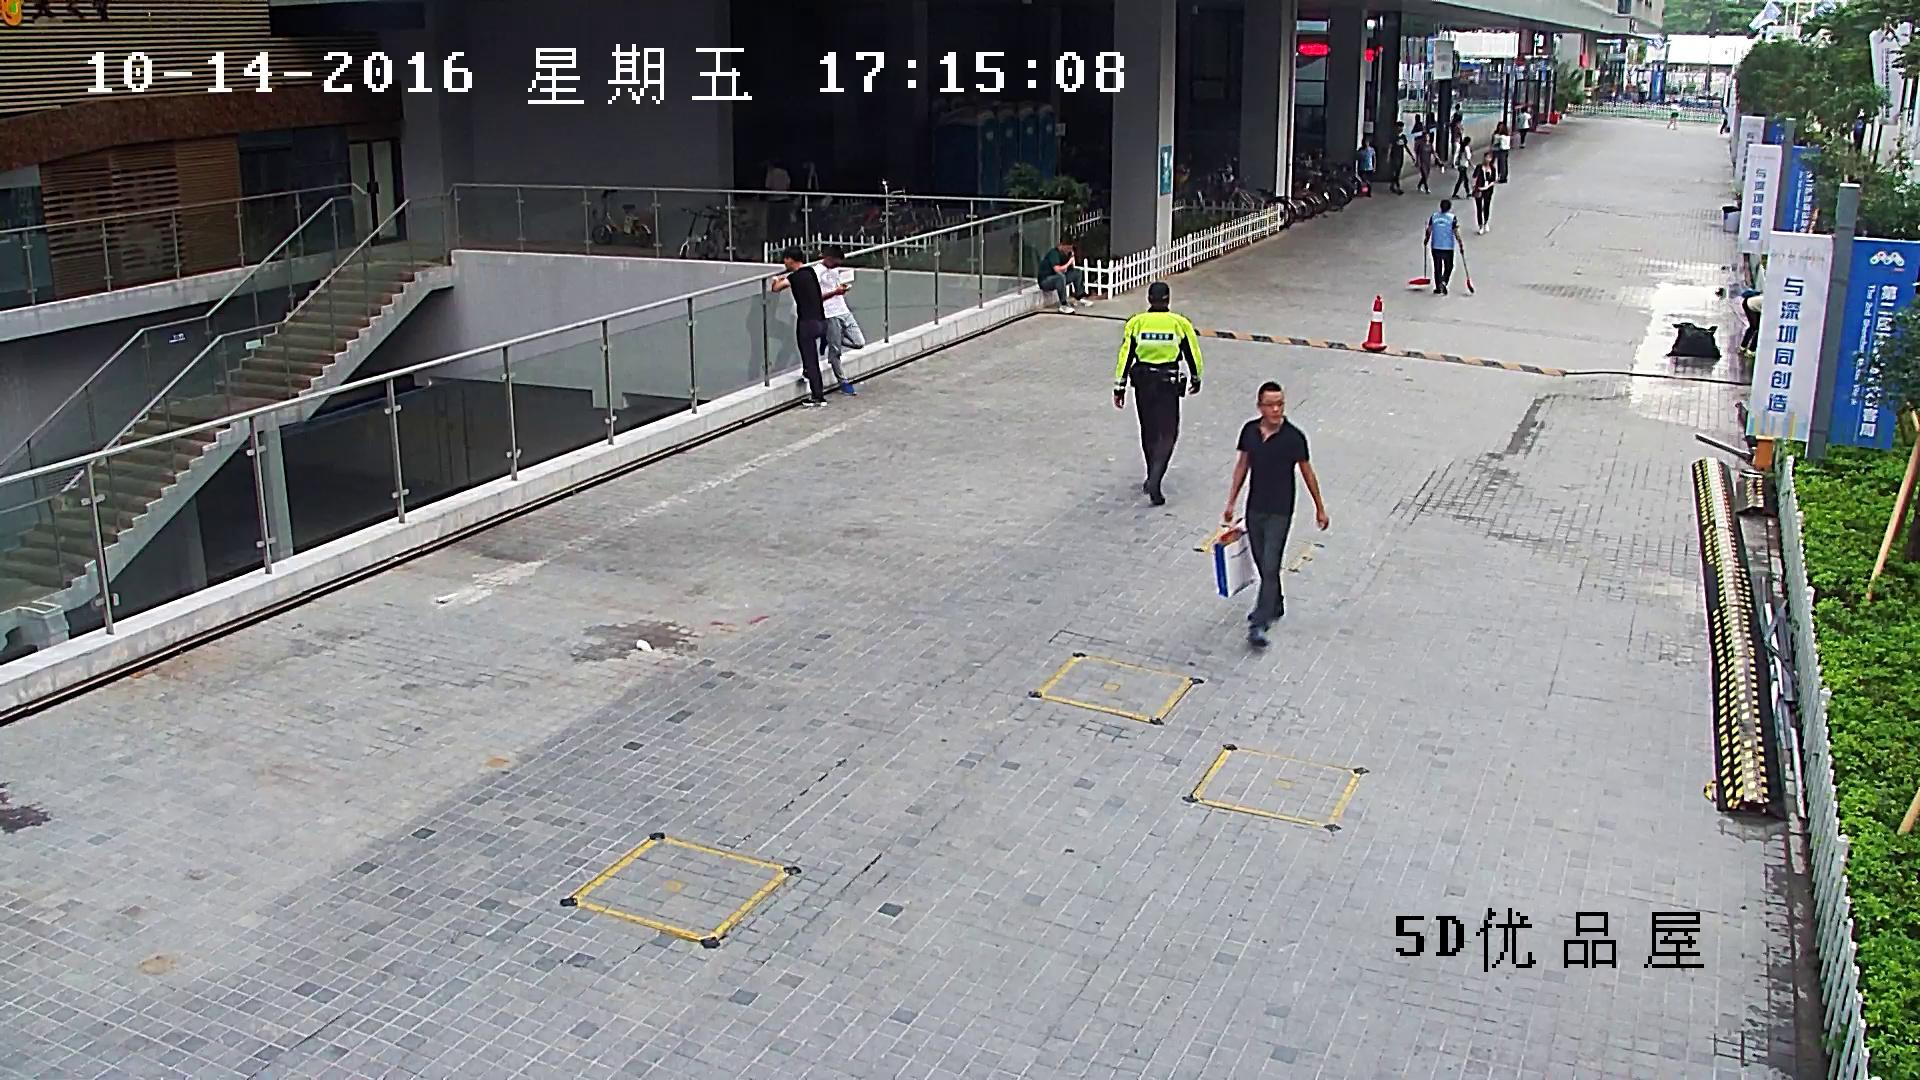person: (1192, 382, 1329, 646), (1112, 282, 1203, 503), (770, 246, 827, 407), (813, 244, 864, 395), (1407, 199, 1474, 295), (1037, 235, 1094, 314), (1423, 199, 1463, 295), (762, 155, 791, 237), (1387, 122, 1415, 194), (1471, 152, 1495, 234), (1415, 133, 1444, 193), (1737, 295, 1763, 358), (1452, 136, 1471, 197), (1356, 137, 1375, 198), (1491, 121, 1509, 183), (1410, 113, 1423, 166), (1450, 115, 1462, 169), (1518, 107, 1531, 148), (1666, 99, 1678, 130), (1854, 112, 1865, 147), (1454, 104, 1462, 143)
